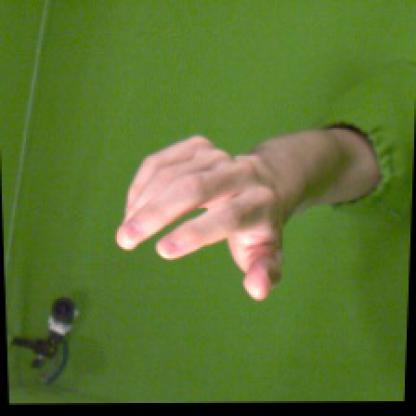Hand: (114, 136, 286, 300)
